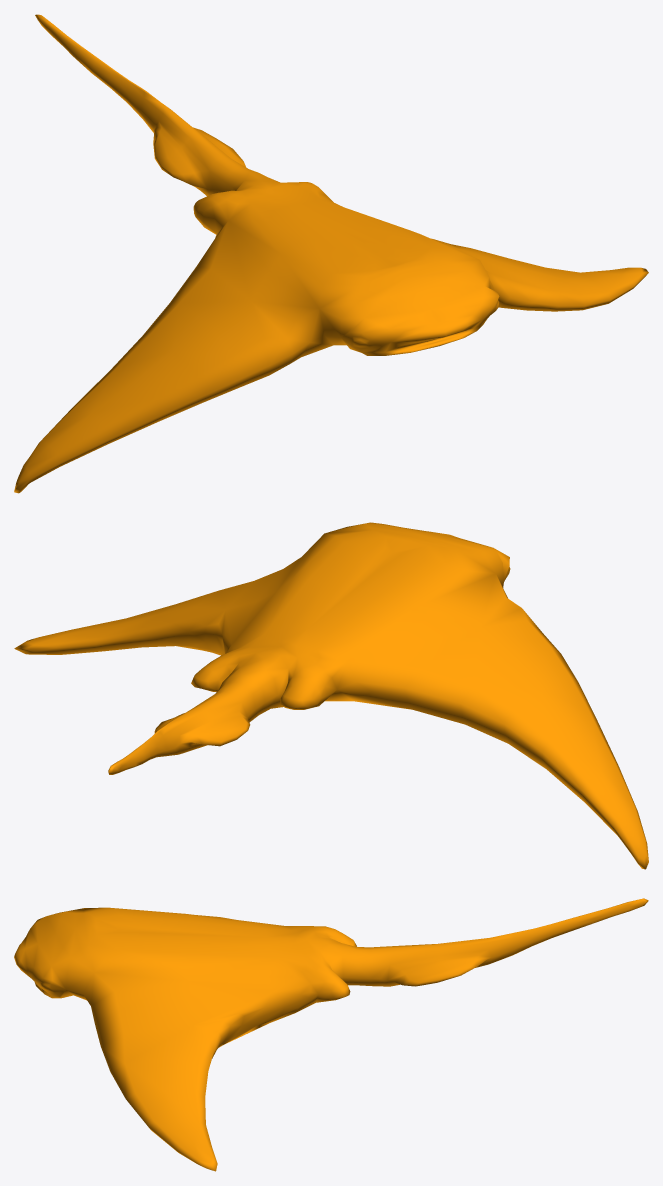
File: bigray.fbx
The picture shows the model from 3 angles, top to bottom: view 1: azimuth 30°, elevation 25°; view 2: azimuth 150°, elevation 25°; view 3: azimuth 270°, elevation 25°; orthographic projection. The views are drawn at different scales.
Visible parts, largest first — view 1: ray_01:ray; view 2: ray_01:ray; view 3: ray_01:ray.
Part boxes in pixels (x1,y1,x2,y2): ray_01:ray: (14, 14, 648, 493); ray_01:ray: (14, 522, 648, 869); ray_01:ray: (14, 898, 648, 1171).
Bounding box in the file's own units: 52.85 × 17.72 × 54.7.
